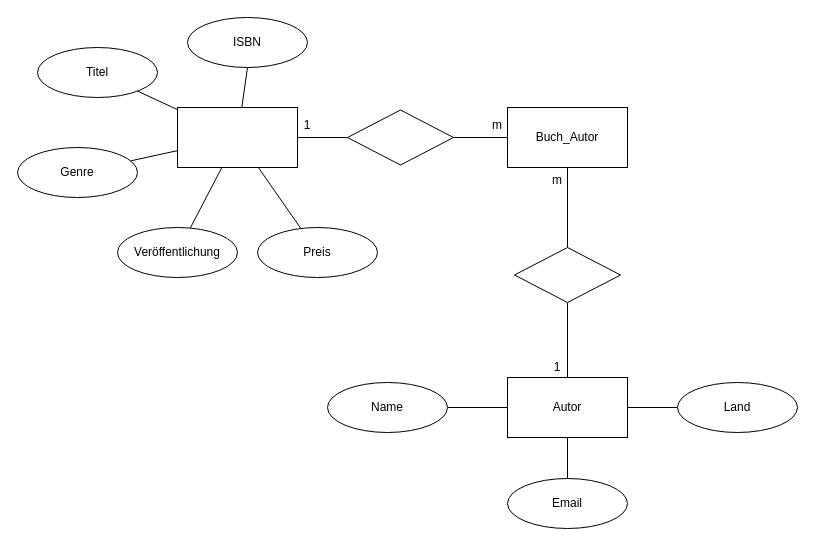
Image size: 815x546. Some labels were removed from this diagram. Each missing label, with the box of its shape:
Buch: (176, 106, 298, 168)
geschrieben von: (346, 109, 454, 165)
verfasst: (514, 246, 620, 302)
